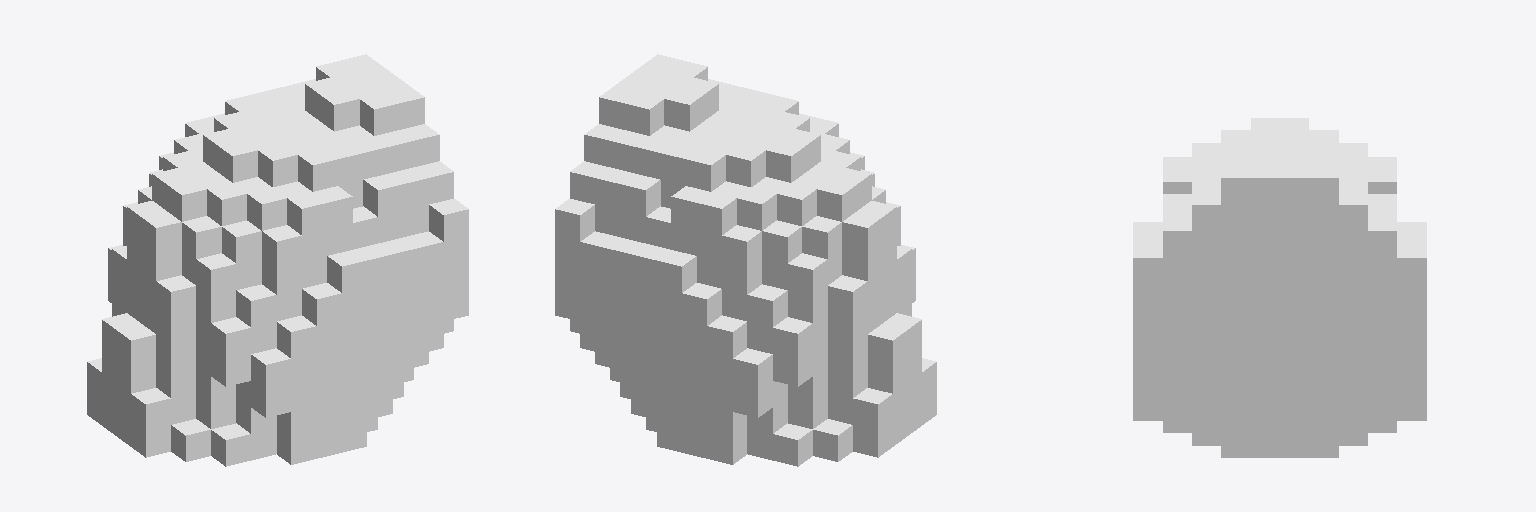
File: bendFlat.obj
3 views of the same model, side by side, from view 1: azimuth 30°, elevation 25°; view 2: azimuth 150°, elevation 25°; view 3: azimuth 270°, elevation 25° (orthographic).
Parts seen in each view (by area): view 1: bendFlat; view 2: bendFlat; view 3: bendFlat.
Boxes of the visible parts, box(x1,y1,x2,y2) form: bendFlat: box(87, 54, 468, 466); bendFlat: box(555, 54, 936, 466); bendFlat: box(1133, 118, 1426, 457).
Size of the model in its own units: 0.9167 by 0.9167 by 0.8333.